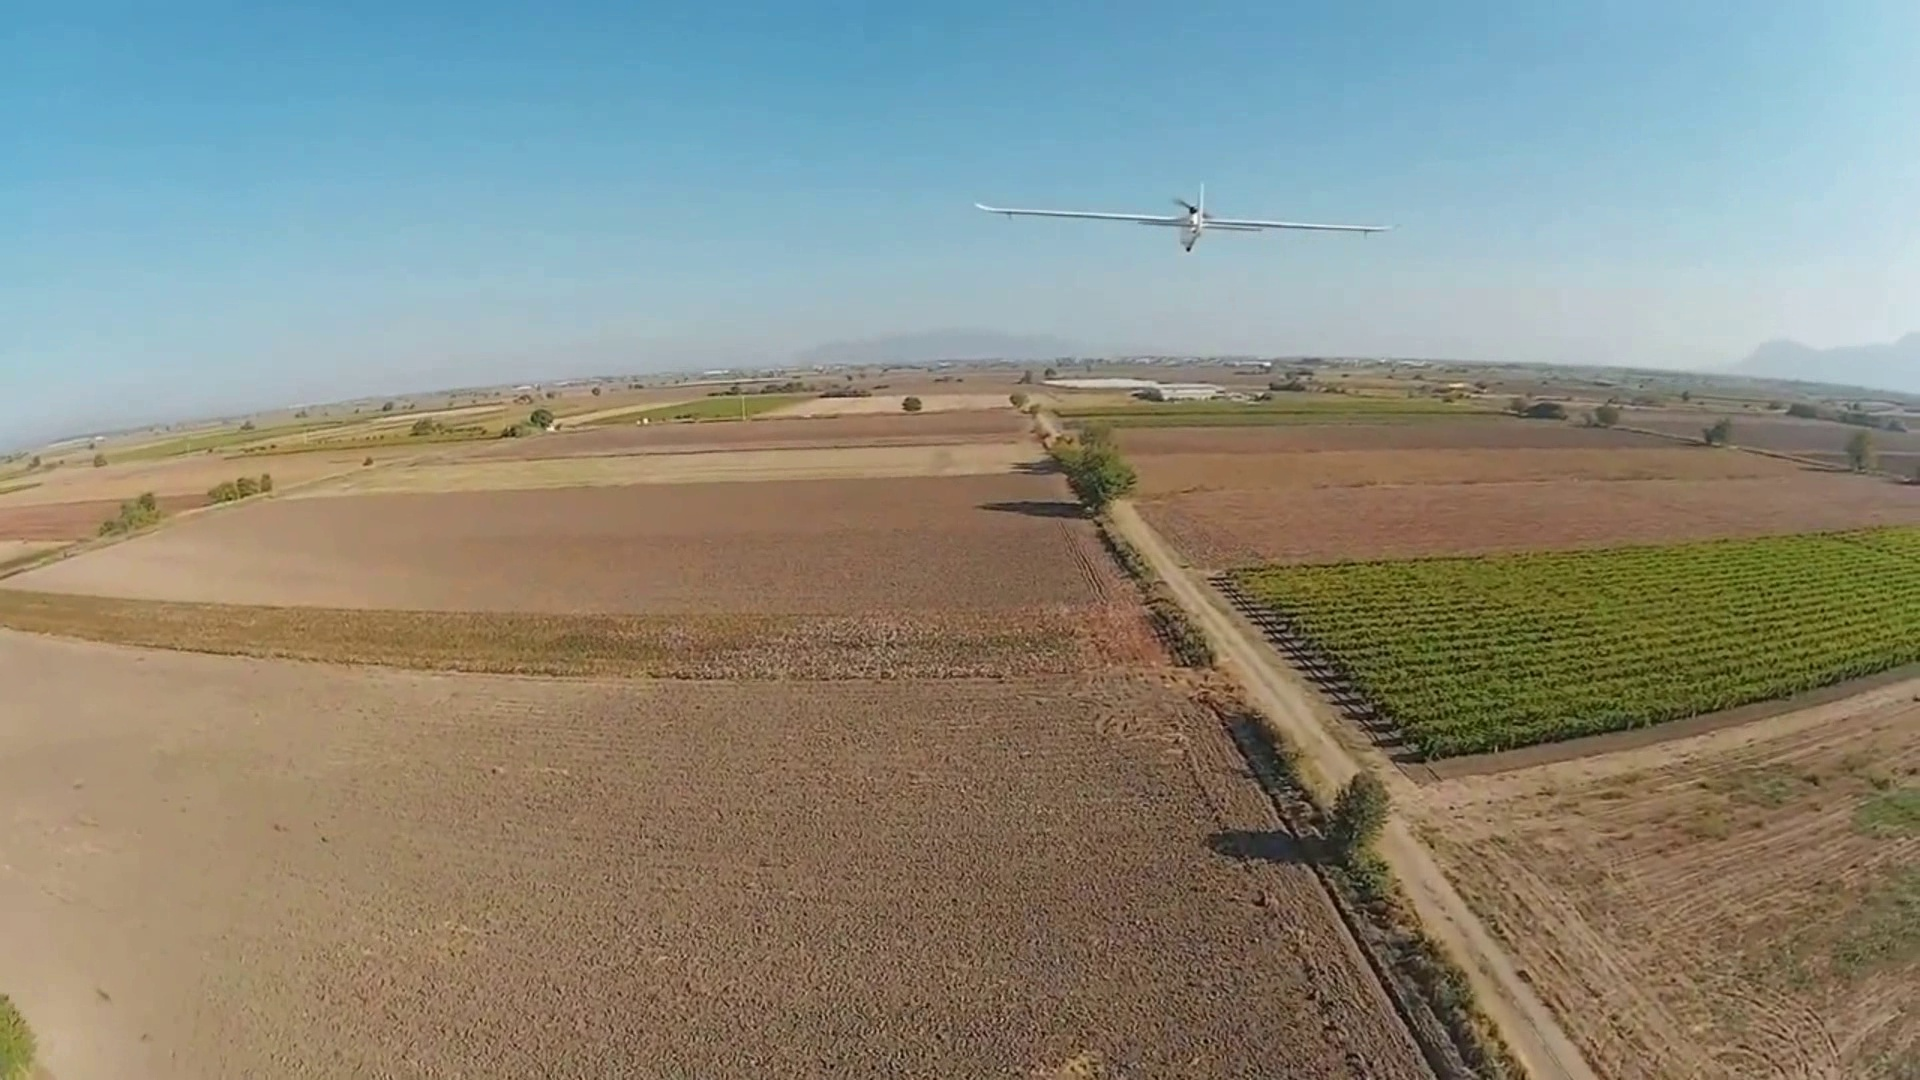airplane: (973, 186, 1389, 253)
